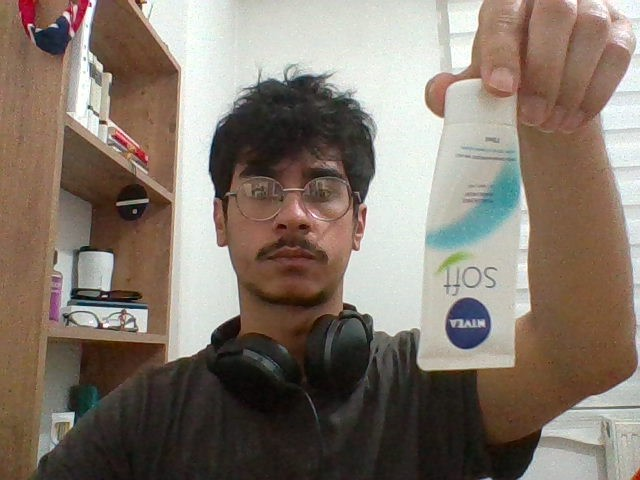NiveaSoft: (425, 86, 517, 370)
